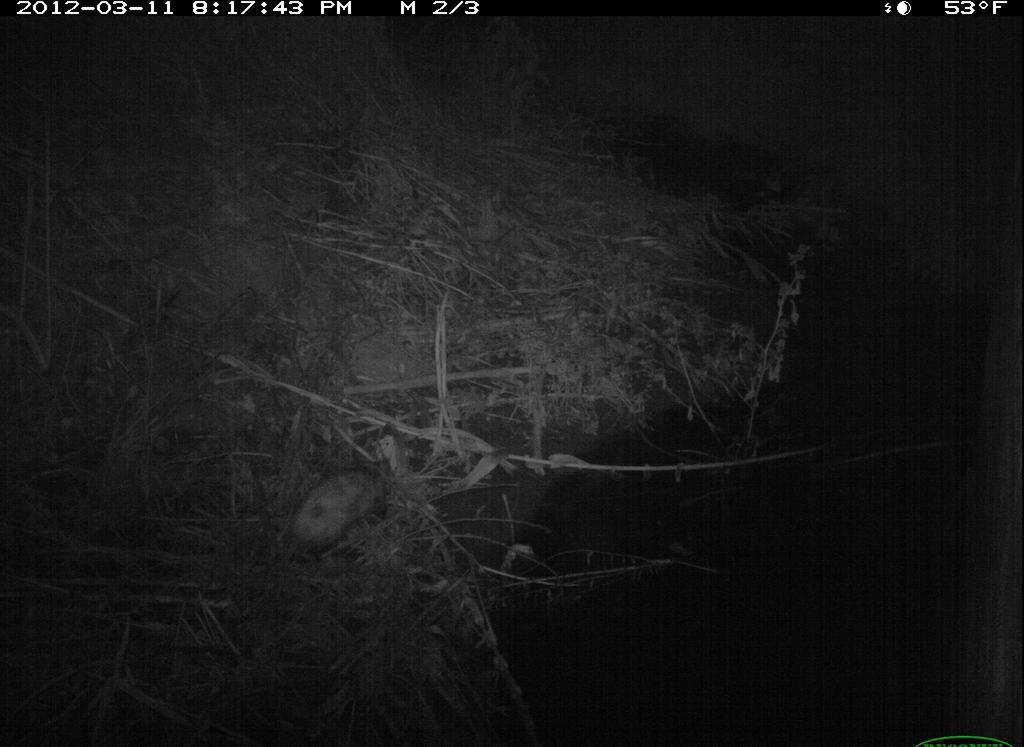opossum: (269, 443, 402, 570)
